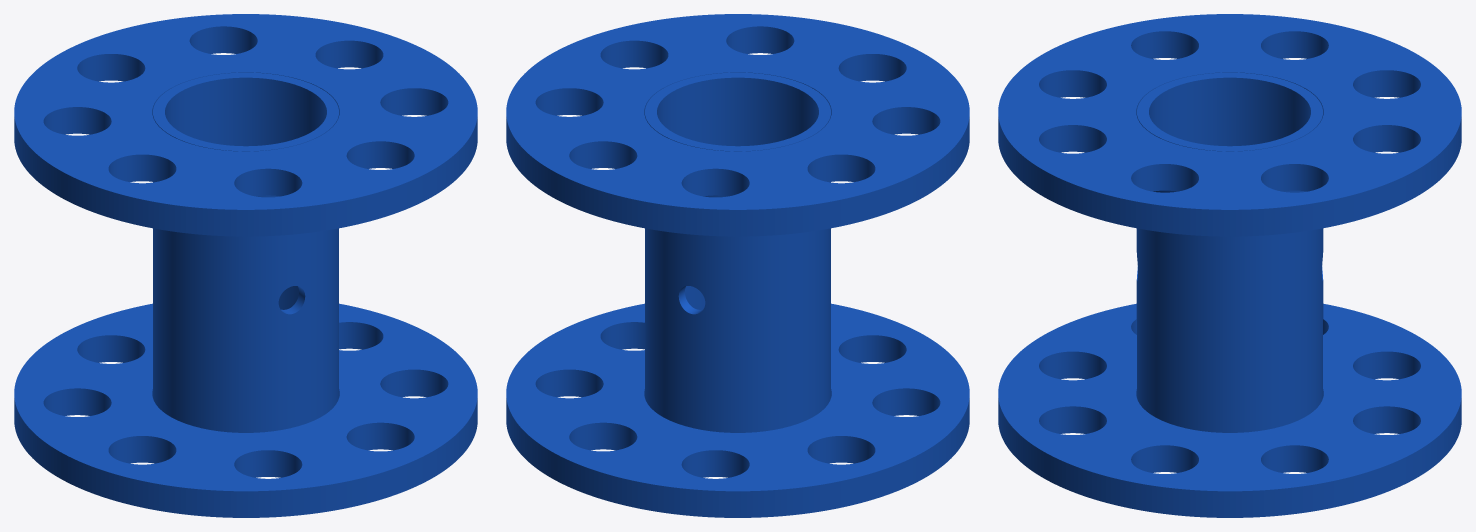
File: 08_carrete_amarre.glb
The picture shows the model from 3 angles, left to right: view 1: azimuth 30°, elevation 25°; view 2: azimuth 150°, elevation 25°; view 3: azimuth 270°, elevation 25°; orthographic projection.
Visible parts, largest first — view 1: 08_carrete_amarre; view 2: 08_carrete_amarre; view 3: 08_carrete_amarre.
Boxes of the visible parts, x1,y1,x2,y2 form: 08_carrete_amarre: (14,14,477,517); 08_carrete_amarre: (506,14,969,517); 08_carrete_amarre: (998,14,1461,517).
Bounding box in the file's own units: 150 × 110 × 150.
